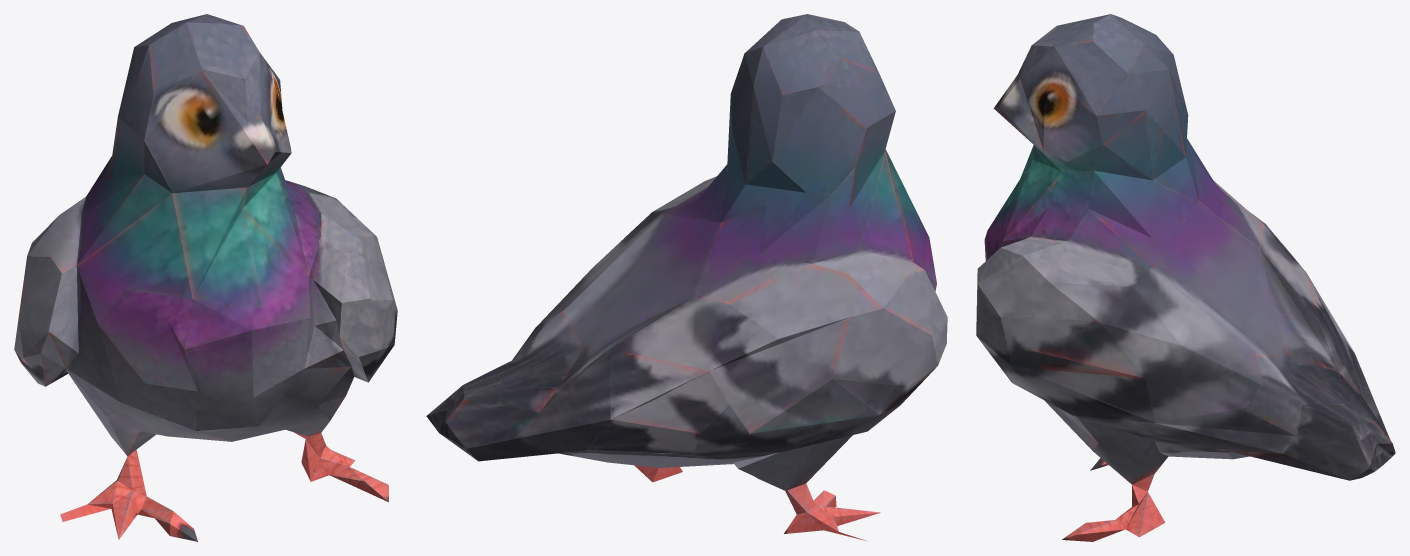
File: pigeon-plain-lod.glb
3 renders of one model, left to right at view 1: azimuth 30°, elevation 25°; view 2: azimuth 150°, elevation 25°; view 3: azimuth 270°, elevation 25°, orthographic. The views are drawn at different scales.
Parts seen in each view (by area): view 1: output_unwrapped; view 2: output_unwrapped; view 3: output_unwrapped.
Boxes of the visible parts, x1=… form: output_unwrapped: x1=14, y1=14, x2=397, y2=541; output_unwrapped: x1=426, y1=14, x2=947, y2=541; output_unwrapped: x1=976, y1=14, x2=1395, y2=541.
Size of the model in its own units: 0.2749 by 0.32 by 0.2659.
1 material, 1 textured.
